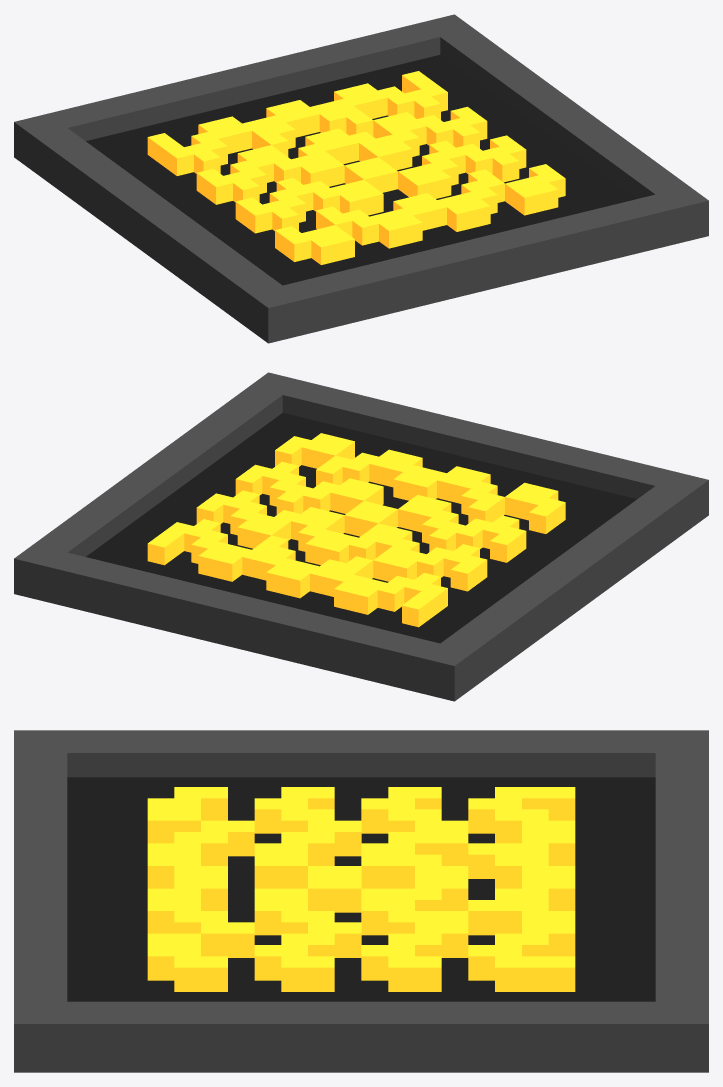
The model's file is trap_WAVES_ORANGE.glb.
3 views of the same model, one above another, from view 1: azimuth 30°, elevation 25°; view 2: azimuth 150°, elevation 25°; view 3: azimuth 270°, elevation 25° (orthographic). The views are drawn at different scales.
Visible parts, largest first — view 1: item_TRAP_WAVES_ORANGE; view 2: item_TRAP_WAVES_ORANGE; view 3: item_TRAP_WAVES_ORANGE.
Boxes of the visible parts, bbox=[...] form: item_TRAP_WAVES_ORANGE: bbox=[14, 14, 708, 343]; item_TRAP_WAVES_ORANGE: bbox=[14, 372, 708, 701]; item_TRAP_WAVES_ORANGE: bbox=[14, 730, 708, 1072].
Bounding box in the file's own units: 0.5909 × 0.0455 × 0.5909.
1 material, 1 textured.
